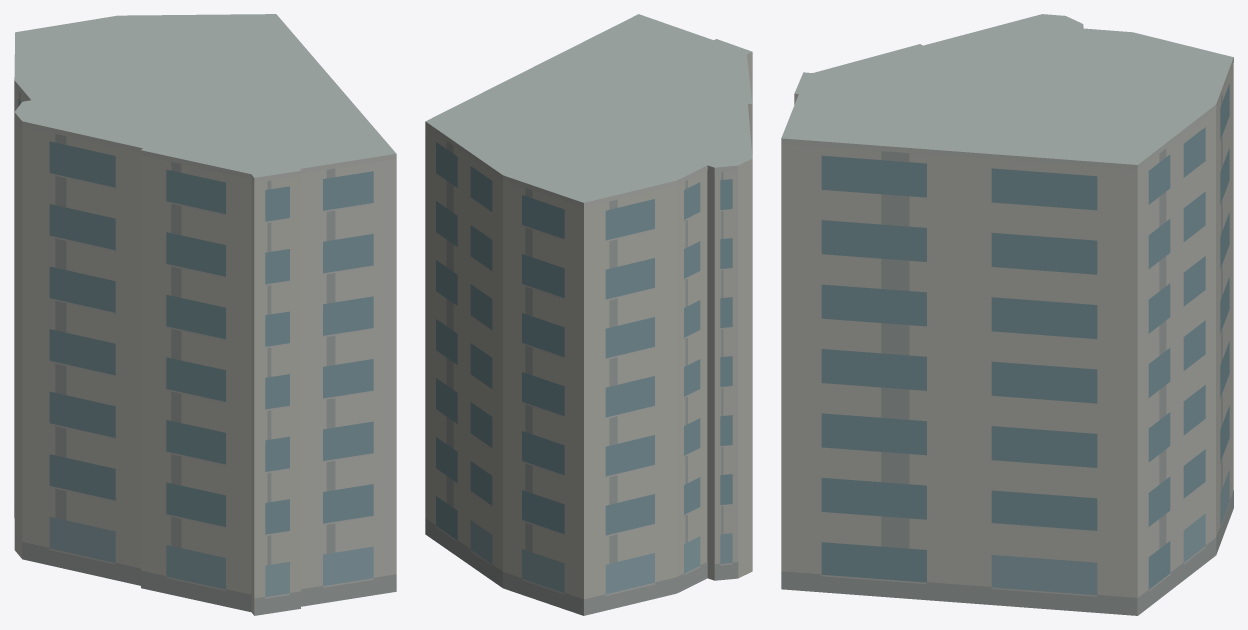
The model's file is residential-5cde753e-ee6f-4d9f-88e5-e0a44715c8e8.glb.
The picture shows the model from 3 angles, left to right: view 1: azimuth 30°, elevation 25°; view 2: azimuth 150°, elevation 25°; view 3: azimuth 270°, elevation 25°; orthographic projection. The views are drawn at different scales.
Parts seen in each view (by area): view 1: residential-5cde753e-ee6f-4d9f-88e5-e0a44715c8e8.tmp; view 2: residential-5cde753e-ee6f-4d9f-88e5-e0a44715c8e8.tmp; view 3: residential-5cde753e-ee6f-4d9f-88e5-e0a44715c8e8.tmp.
Boxes of the visible parts, x1,y1,x2,y2 form: residential-5cde753e-ee6f-4d9f-88e5-e0a44715c8e8.tmp: (14, 14, 396, 615); residential-5cde753e-ee6f-4d9f-88e5-e0a44715c8e8.tmp: (425, 14, 752, 615); residential-5cde753e-ee6f-4d9f-88e5-e0a44715c8e8.tmp: (781, 14, 1233, 615).
Bounding box in the file's own units: 15.09 × 21 × 19.11.
